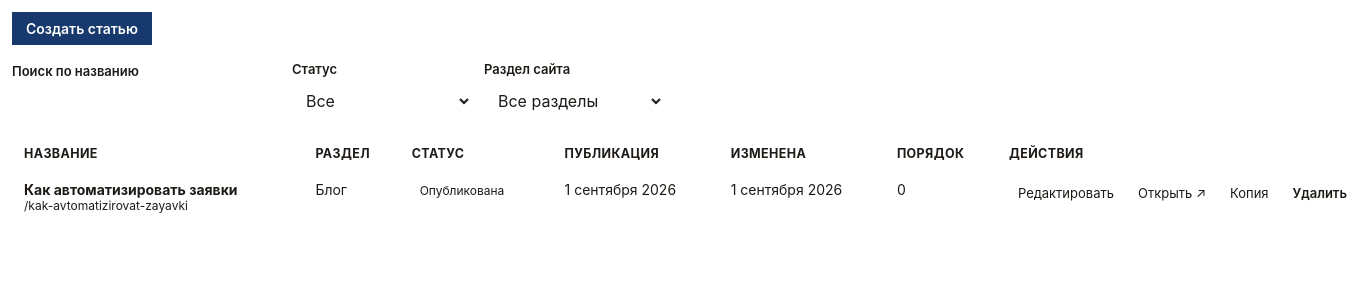
копия статьи › статья со скрытой legacy-секцией копируется без неё (REL-02F.2)
This screenshot has width=1364, height=282.
Click the button "Копия".
click(1249, 193)  # box [1221,181,1278,205]
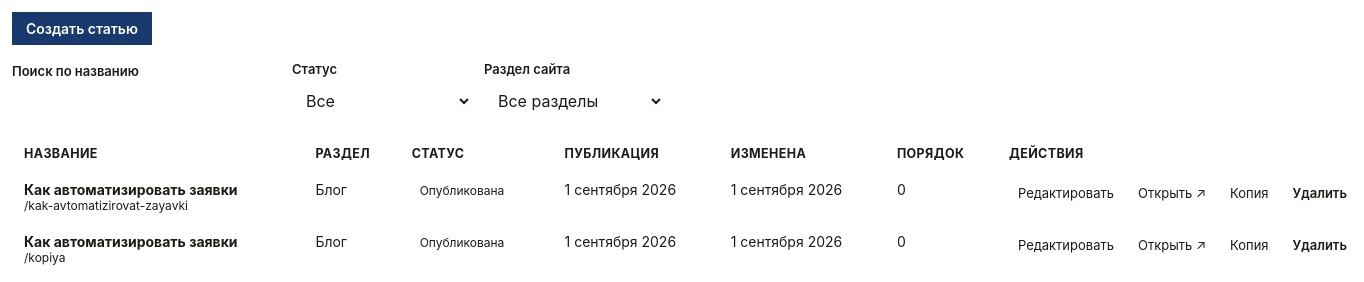
Expected: the number of buttons "Копия" is 2, [1221,181,1278,205]; [1221,233,1278,257]
